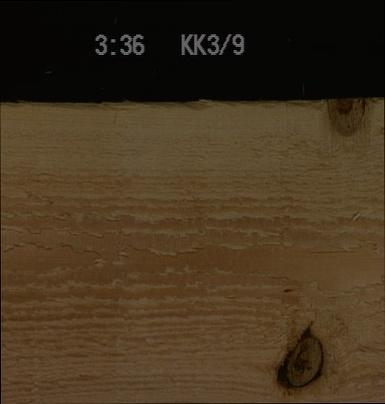edge_knot: (324, 97, 367, 137)
wave: (0, 97, 322, 110)
